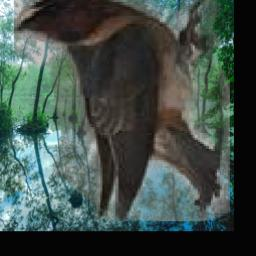Swallow: (15, 0, 231, 221)
